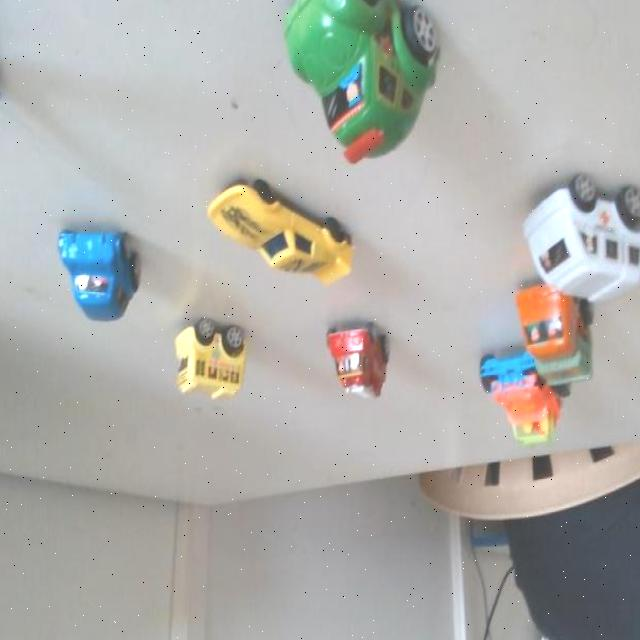car: (264, 0, 447, 170), (502, 146, 640, 328), (214, 167, 349, 292), (167, 303, 256, 405), (468, 348, 552, 452), (324, 304, 399, 412), (56, 222, 134, 324), (521, 275, 587, 392)
